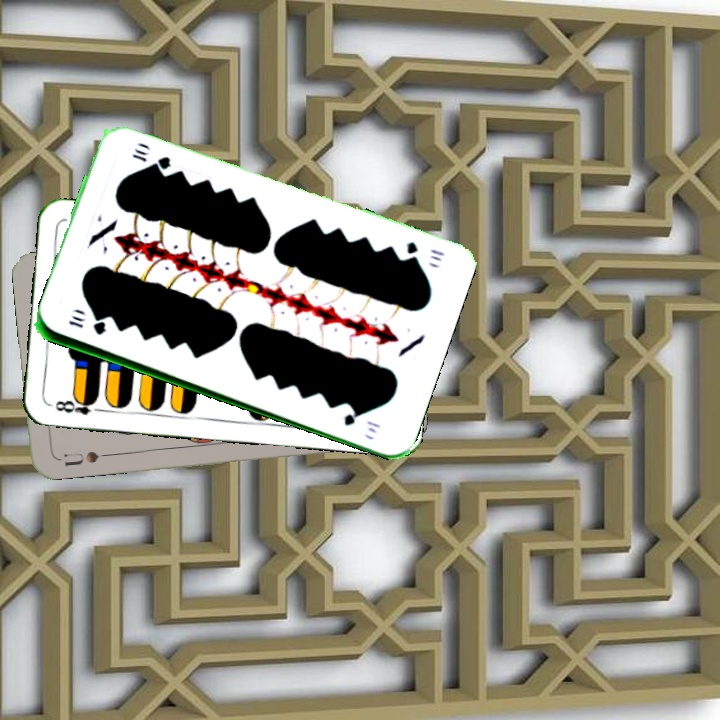E8: (51, 393, 107, 417)
G10: (64, 311, 109, 338), (402, 237, 447, 264)
SU: (59, 447, 113, 469)
